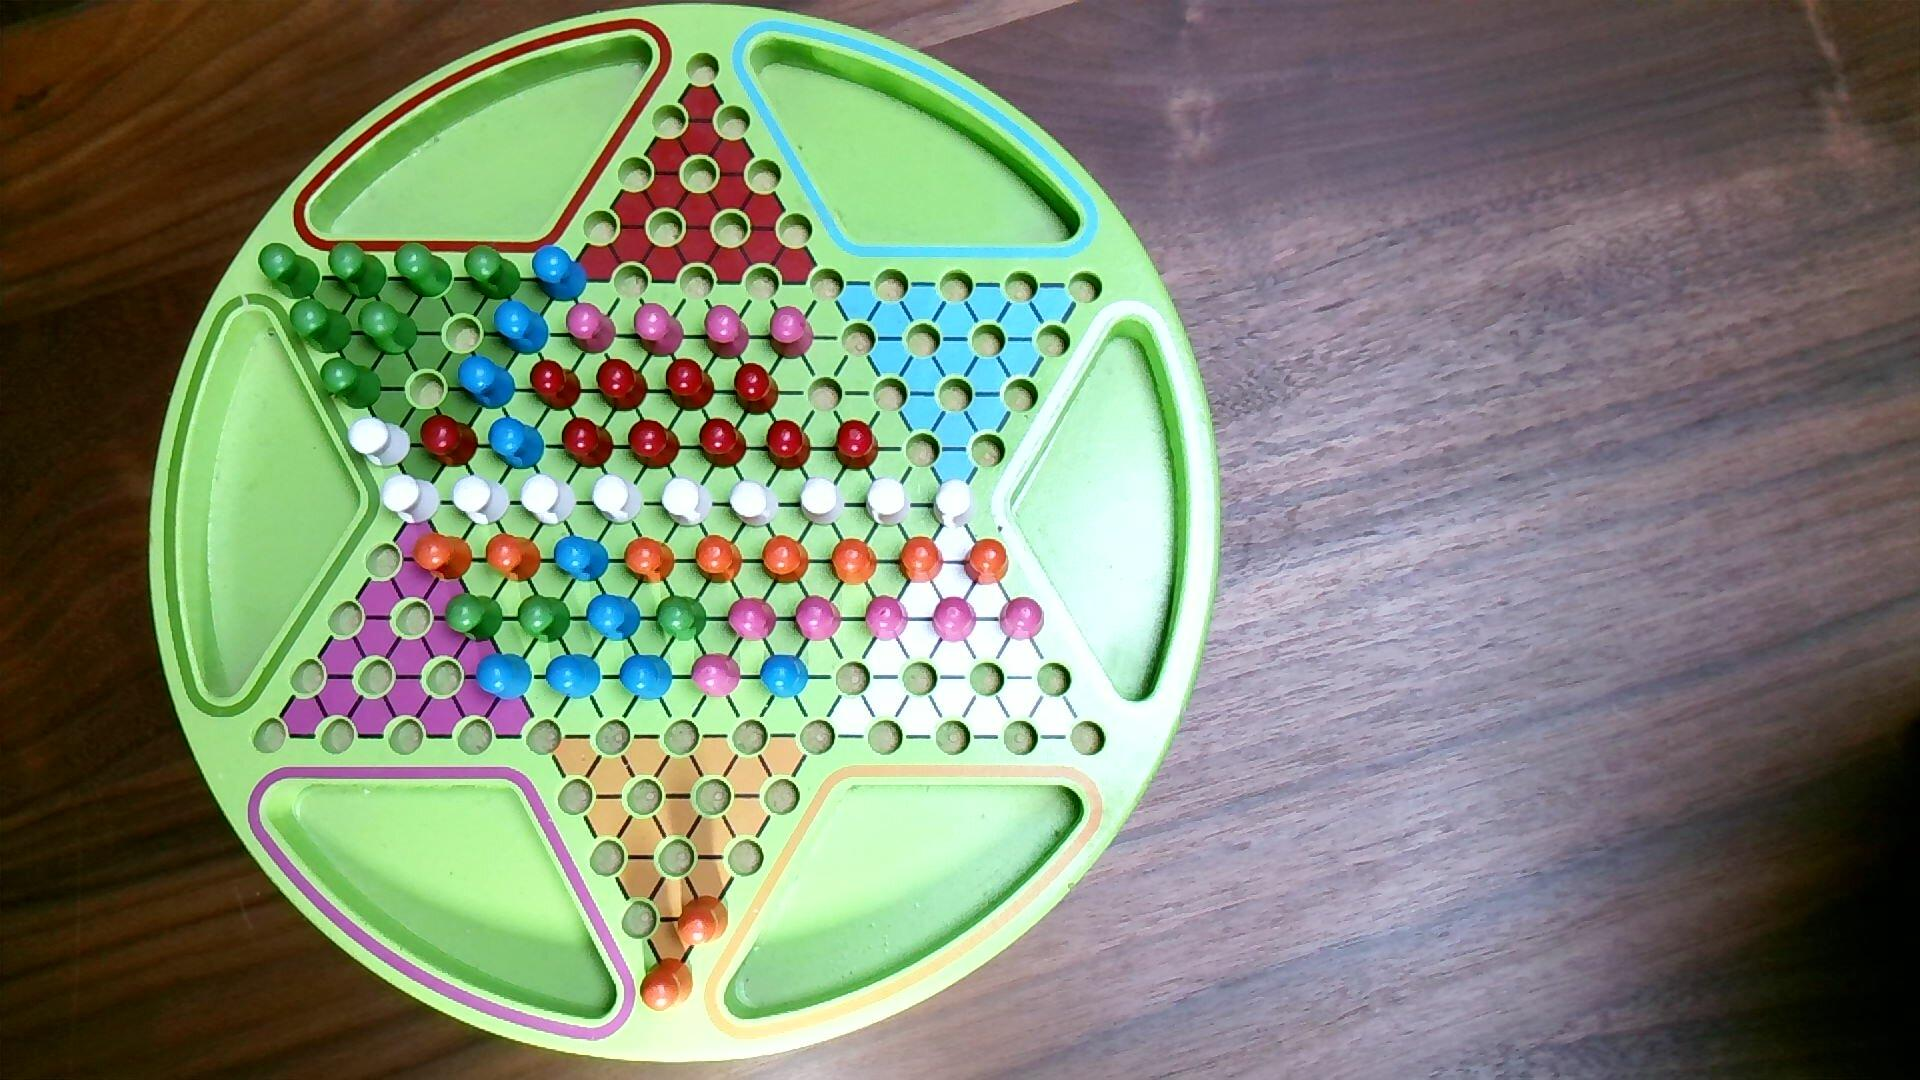B: (458, 355, 518, 411), (492, 301, 551, 357), (531, 245, 588, 305), (487, 415, 547, 471), (553, 534, 612, 585), (473, 651, 534, 702), (585, 593, 644, 644), (618, 653, 675, 703), (545, 653, 603, 702), (760, 653, 811, 700)
G: (257, 241, 324, 301), (327, 241, 389, 302), (287, 298, 353, 355), (319, 356, 385, 411), (394, 241, 455, 301), (463, 243, 524, 302), (357, 301, 419, 357), (443, 593, 505, 645), (516, 593, 574, 646), (655, 593, 709, 644)
O: (411, 531, 475, 584), (640, 956, 696, 1014), (484, 531, 543, 585), (676, 894, 731, 948), (622, 535, 676, 587), (761, 531, 811, 587), (829, 535, 880, 588), (963, 537, 1011, 588), (695, 534, 744, 585), (898, 535, 945, 585)
R: (419, 411, 481, 469), (596, 357, 650, 414), (560, 417, 616, 471), (626, 418, 682, 472), (530, 359, 583, 414), (665, 357, 717, 413), (699, 417, 749, 471), (732, 361, 781, 417), (832, 418, 881, 473), (765, 419, 814, 472)
R2: (633, 302, 687, 359), (564, 302, 618, 357), (703, 305, 752, 363), (767, 305, 816, 363), (690, 651, 742, 700), (727, 596, 779, 645), (794, 593, 843, 644), (862, 593, 911, 644), (931, 595, 978, 645), (1000, 595, 1047, 644)
W: (347, 415, 413, 469), (381, 473, 442, 527), (454, 473, 513, 527), (520, 473, 579, 527), (659, 475, 715, 530), (591, 473, 645, 527), (728, 477, 781, 529), (798, 475, 847, 529), (864, 477, 913, 530), (931, 477, 978, 531)
